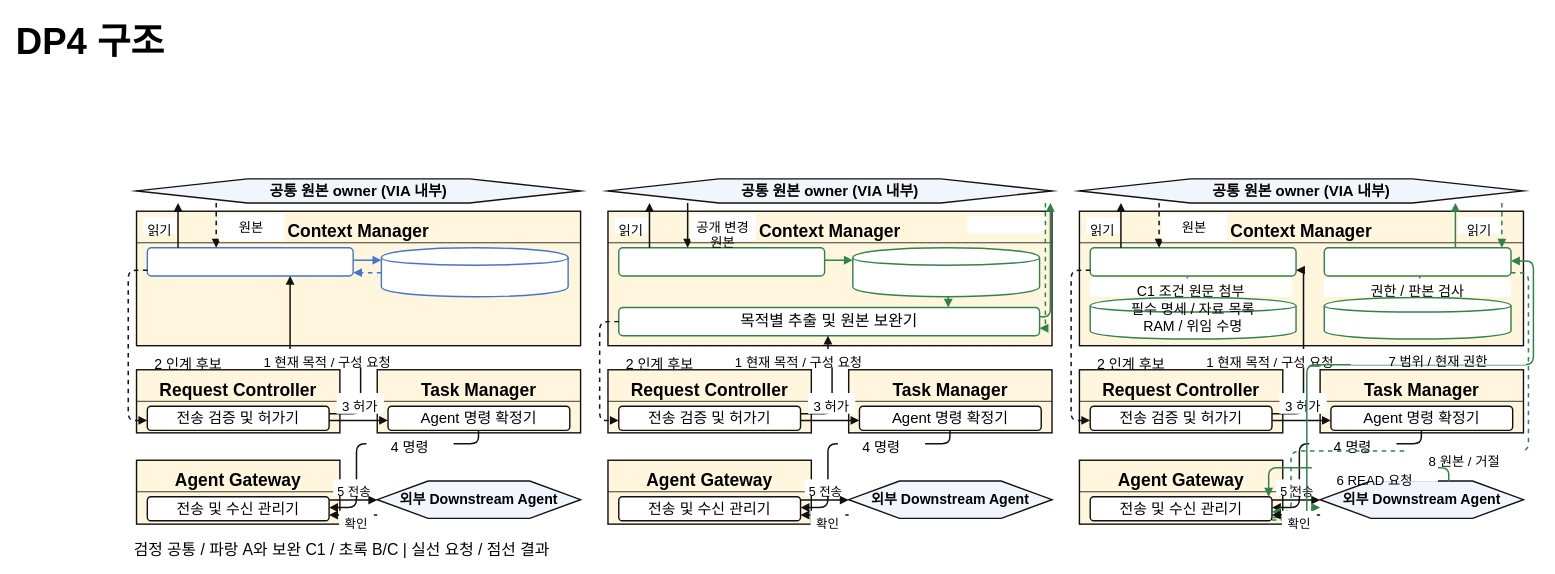
Some shapes in this 1555 by 574 pixel diagram are drawn without their labels. Each missing label, with the centre of its shape:
"부족분 읽기" belongs at [1006,224].
"업무 기록 / 의존 판본 내구 기록" belongs at [946,272].
"업무 기록 생산기" belongs at [721,261].
"인계 묶음 RAM / 위임 수명" belongs at [474,272].
"인계 묶음 구성기" belongs at [249,261].
"자료 읽기 제공기" belongs at [1417,261].
"접근 원장 / 읽기 영수증 접근 수명" belongs at [1417,317].
"필수 명세 구성기" belongs at [1192,261].
